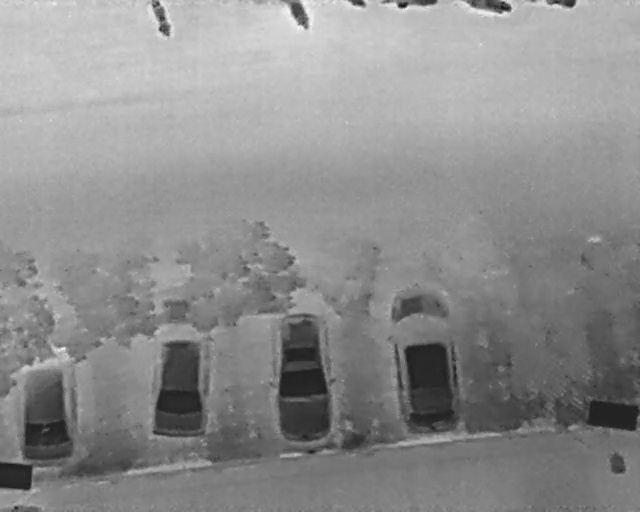Bicycle: (458, 0, 514, 17), (149, 0, 173, 39), (286, 0, 311, 32), (381, 0, 438, 11), (531, 0, 579, 11), (347, 0, 368, 11)
Car: (383, 279, 467, 440), (266, 304, 342, 452), (12, 340, 85, 466), (148, 315, 216, 441)
